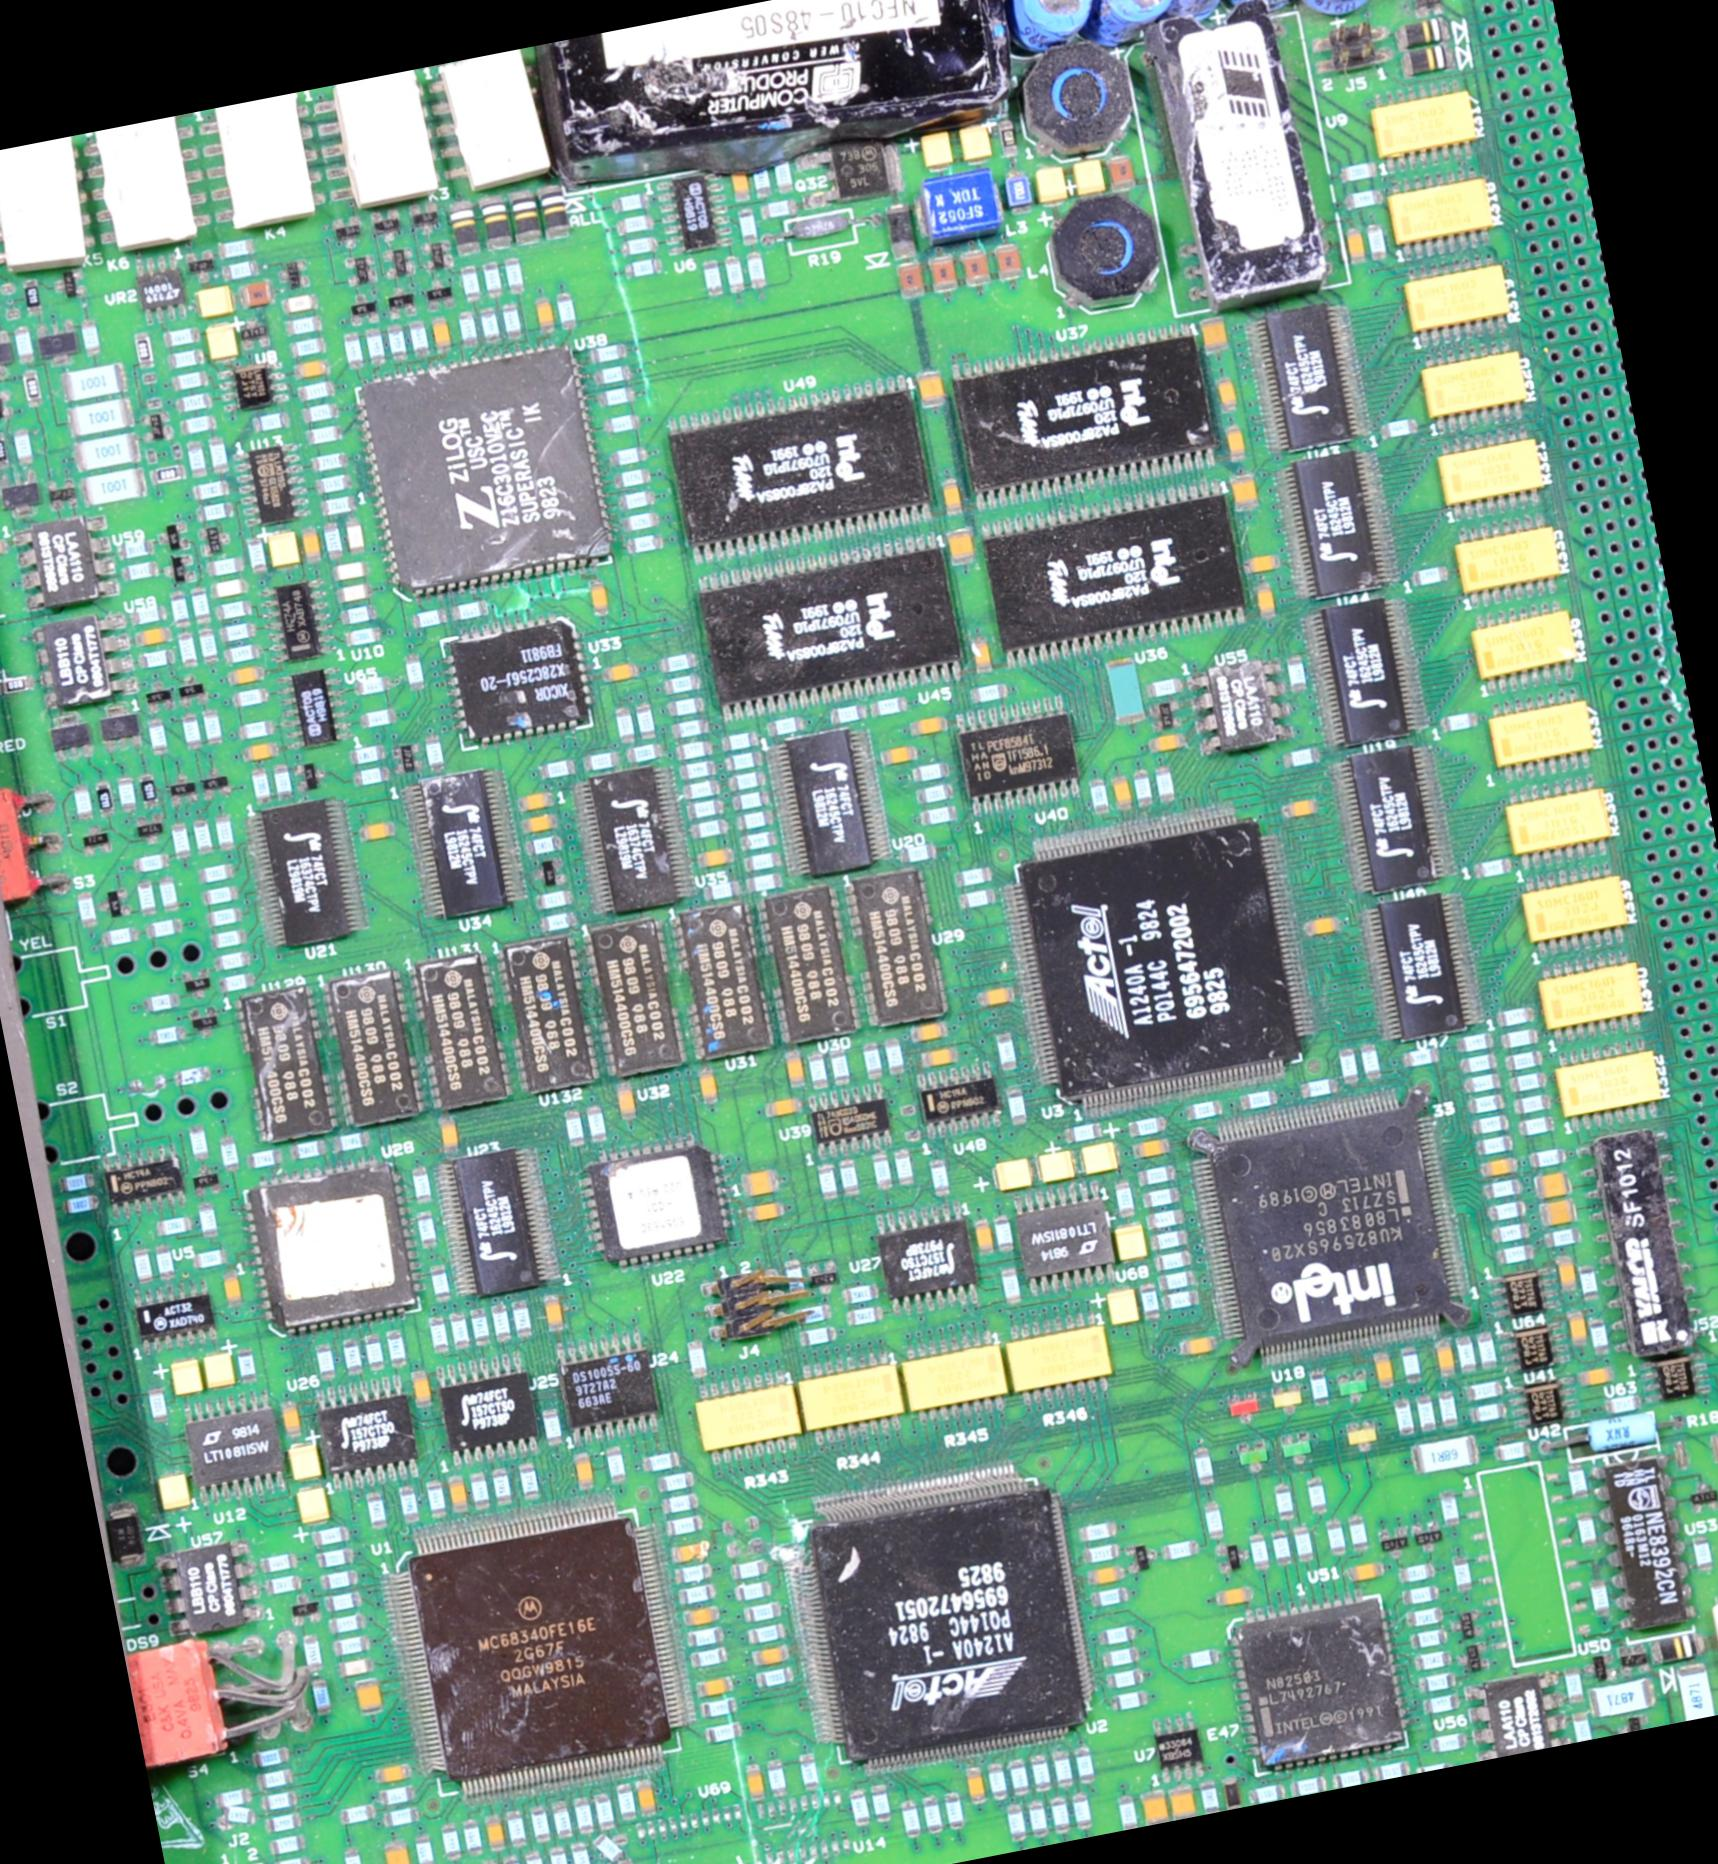Capacitor Jumper: (930, 257, 958, 291), (1127, 1133, 1163, 1158), (1142, 1789, 1166, 1825), (1232, 471, 1255, 508), (917, 370, 943, 403), (1216, 377, 1239, 412), (961, 252, 987, 283), (994, 245, 1015, 279), (1202, 318, 1223, 351), (1169, 1788, 1192, 1817), (1544, 1200, 1570, 1224), (1484, 1156, 1513, 1177), (1109, 161, 1132, 187), (279, 1403, 300, 1430), (1219, 1586, 1252, 1604), (445, 1478, 464, 1507), (744, 1768, 763, 1797), (953, 533, 973, 562), (1107, 776, 1127, 805), (1346, 226, 1362, 260), (533, 300, 550, 331), (1434, 1346, 1455, 1372), (971, 1767, 986, 1804), (541, 1299, 560, 1327), (245, 284, 268, 307), (1093, 1564, 1119, 1583), (224, 1271, 240, 1302), (578, 1453, 593, 1487), (753, 1646, 781, 1664), (901, 265, 919, 292), (913, 1025, 942, 1041), (749, 1172, 773, 1192), (231, 666, 255, 685), (1228, 430, 1245, 456), (979, 990, 1010, 1005), (593, 585, 607, 615), (1286, 800, 1314, 817), (619, 1085, 635, 1112), (701, 1070, 718, 1098), (1185, 1336, 1213, 1353), (1258, 589, 1275, 617), (885, 745, 913, 762), (770, 1096, 794, 1114), (1538, 1176, 1562, 1193), (296, 357, 320, 375), (487, 1815, 502, 1845), (784, 1059, 801, 1085), (1374, 1356, 1390, 1382), (364, 823, 390, 839), (974, 641, 992, 664), (1312, 919, 1336, 935), (637, 1786, 653, 1810), (302, 531, 318, 555), (607, 661, 632, 677), (414, 1374, 429, 1400), (1590, 1367, 1616, 1382), (1349, 1564, 1375, 1578), (731, 174, 745, 200), (930, 1046, 953, 1062), (679, 1541, 703, 1555), (434, 318, 447, 344), (1559, 1266, 1573, 1289), (364, 1682, 378, 1705), (701, 1679, 724, 1694), (701, 849, 724, 864), (386, 1845, 404, 1862), (443, 1119, 456, 1143), (1572, 1318, 1585, 1343), (692, 1607, 711, 1624), (947, 482, 960, 507), (1250, 557, 1275, 570), (250, 744, 271, 758), (919, 718, 940, 732), (978, 1228, 991, 1250), (380, 1767, 403, 1780), (755, 1203, 776, 1216), (143, 630, 161, 643), (531, 817, 547, 828), (1158, 739, 1176, 749), (529, 794, 544, 805)
IC: (1015, 822, 1302, 1104), (814, 1486, 1080, 1763), (403, 1508, 667, 1783), (1205, 1102, 1452, 1353), (360, 347, 606, 594), (1143, 8, 1328, 309), (695, 528, 961, 703), (950, 330, 1210, 495), (986, 490, 1245, 649), (669, 390, 922, 547), (1237, 1599, 1398, 1763), (252, 1172, 412, 1323), (1595, 1128, 1690, 1353), (445, 619, 594, 750), (843, 867, 943, 1025), (578, 765, 682, 911), (586, 917, 674, 1075), (674, 903, 763, 1055), (1294, 447, 1382, 601), (783, 732, 874, 874), (503, 938, 586, 1091), (242, 982, 326, 1132), (1372, 900, 1466, 1033), (593, 1151, 713, 1255), (263, 799, 349, 943), (758, 890, 844, 1033), (422, 956, 502, 1106), (1608, 1455, 1681, 1617), (1348, 752, 1435, 887), (335, 971, 414, 1119), (455, 1150, 534, 1292), (1263, 305, 1346, 442), (1325, 601, 1408, 737), (422, 773, 505, 908), (961, 716, 1070, 794), (877, 1216, 973, 1297), (1015, 1198, 1111, 1275), (187, 1408, 279, 1484), (442, 1374, 533, 1450), (317, 1396, 406, 1471), (171, 1539, 247, 1625), (560, 1353, 651, 1424), (1208, 664, 1280, 749), (34, 521, 97, 602), (1486, 1676, 1549, 1755), (49, 620, 109, 701), (273, 580, 323, 659), (812, 1099, 887, 1145), (292, 674, 338, 744), (677, 172, 719, 244), (250, 445, 289, 518), (924, 1085, 991, 1120), (231, 362, 274, 408), (1658, 1357, 1697, 1401), (1158, 1731, 1200, 1768), (1504, 1270, 1539, 1310), (1513, 1327, 1547, 1369), (145, 274, 179, 302)
Resistor Jumper: (692, 1379, 809, 1450), (1419, 347, 1525, 416), (804, 1362, 908, 1430), (1387, 180, 1492, 245), (903, 1341, 1005, 1408), (1452, 529, 1557, 593), (1440, 437, 1539, 502), (1489, 698, 1590, 762), (1007, 1327, 1109, 1388), (1557, 1055, 1660, 1115), (1371, 96, 1474, 154), (1528, 878, 1624, 942), (1413, 266, 1512, 326), (1505, 791, 1609, 848), (1473, 619, 1572, 674), (1543, 966, 1634, 1023), (1104, 662, 1145, 718), (788, 213, 843, 245), (1530, 1383, 1557, 1424), (219, 231, 253, 261), (255, 408, 289, 430), (1143, 1281, 1163, 1320), (995, 1031, 1017, 1067), (1129, 1111, 1164, 1132), (244, 537, 266, 570), (1151, 768, 1174, 799), (245, 768, 266, 800), (409, 1166, 429, 1200), (412, 1215, 435, 1244), (1049, 1794, 1068, 1828), (1010, 1088, 1030, 1120), (80, 318, 99, 351), (541, 1411, 562, 1440), (495, 305, 516, 334), (429, 1315, 447, 1349), (684, 1344, 703, 1375), (723, 258, 742, 289), (362, 330, 382, 360), (271, 763, 291, 794), (1564, 1671, 1582, 1703), (13, 326, 31, 359), (737, 208, 755, 240), (229, 687, 261, 705), (1286, 656, 1304, 688), (573, 1806, 593, 1835), (344, 604, 373, 623), (1132, 775, 1151, 804), (807, 1055, 825, 1086), (510, 1301, 528, 1331), (1030, 1758, 1047, 1789), (318, 524, 336, 555), (586, 750, 617, 768), (625, 744, 656, 762), (468, 1478, 489, 1504), (516, 1468, 536, 1495), (869, 1789, 888, 1817), (969, 685, 1002, 701), (1497, 1008, 1526, 1026), (1577, 1270, 1595, 1299), (749, 1604, 778, 1622), (1070, 1797, 1088, 1827), (171, 823, 188, 852), (831, 705, 861, 723), (596, 1838, 619, 1861), (740, 1578, 766, 1598), (528, 833, 554, 852), (1343, 1047, 1359, 1078), (471, 1309, 487, 1340), (450, 1315, 466, 1346), (1054, 1754, 1070, 1784), (904, 1804, 921, 1835), (388, 325, 404, 356), (425, 737, 442, 768), (1444, 714, 1474, 731), (882, 1042, 900, 1070), (1189, 1099, 1216, 1117), (1549, 1228, 1577, 1245), (615, 1793, 633, 1820), (503, 1814, 521, 1841), (942, 1794, 960, 1822), (169, 328, 196, 346), (357, 675, 385, 693), (1522, 1094, 1544, 1115), (961, 862, 986, 882), (294, 1138, 318, 1158), (831, 1049, 848, 1078), (133, 1252, 149, 1281), (401, 1489, 417, 1518), (1195, 1450, 1211, 1479), (271, 1817, 300, 1833), (463, 1817, 479, 1846), (991, 1767, 1007, 1796), (1030, 1801, 1046, 1830), (182, 630, 196, 662), (450, 601, 479, 617), (183, 714, 200, 744), (425, 1484, 443, 1510), (1439, 1395, 1457, 1421), (1400, 1560, 1426, 1578), (703, 1697, 729, 1715), (529, 1810, 547, 1836), (115, 779, 133, 805), (567, 1112, 581, 1143), (1414, 567, 1445, 581), (747, 875, 778, 890), (1361, 1046, 1377, 1073), (494, 1473, 510, 1500), (1476, 1338, 1492, 1366), (1609, 1395, 1637, 1411), (1205, 1508, 1221, 1536), (317, 453, 344, 469), (919, 784, 947, 800), (770, 196, 792, 216), (481, 268, 500, 291), (179, 1065, 203, 1083), (586, 1112, 604, 1137), (1166, 1541, 1190, 1559), (1106, 1627, 1130, 1645), (594, 343, 619, 360), (1005, 1270, 1020, 1299), (1161, 1252, 1190, 1266), (766, 1765, 781, 1794), (750, 253, 765, 283), (705, 263, 719, 292), (343, 523, 357, 552), (409, 612, 438, 627), (406, 659, 421, 688), (840, 1164, 856, 1190), (1306, 1481, 1322, 1507), (1296, 1528, 1312, 1554), (802, 1757, 818, 1783), (1418, 1653, 1444, 1669), (1007, 1807, 1023, 1833), (1573, 1715, 1590, 1741), (226, 261, 252, 278), (1367, 227, 1383, 253), (679, 723, 705, 739), (541, 762, 567, 778), (875, 697, 901, 713), (1155, 679, 1176, 698), (156, 1028, 179, 1046), (370, 1497, 388, 1520), (1291, 749, 1314, 766), (864, 1046, 878, 1073), (1505, 1029, 1533, 1044), (237, 1349, 252, 1377), (554, 1807, 568, 1835), (1008, 1762, 1023, 1789), (1257, 1784, 1284, 1799), (619, 713, 633, 740), (284, 299, 315, 312), (248, 1151, 273, 1167), (817, 1169, 833, 1193), (1304, 1080, 1328, 1096), (1145, 1166, 1169, 1182), (1083, 1523, 1107, 1539), (1252, 1539, 1268, 1564), (122, 537, 146, 554), (674, 697, 698, 713), (682, 744, 706, 760), (148, 921, 172, 937), (542, 913, 567, 929), (1478, 862, 1504, 877), (159, 1250, 172, 1279), (874, 1158, 888, 1184), (1117, 1184, 1130, 1213), (369, 1336, 382, 1366), (1531, 1151, 1557, 1166), (1504, 1249, 1530, 1263), (734, 1559, 760, 1573), (1278, 1491, 1293, 1517), (1327, 1525, 1341, 1551), (851, 1794, 865, 1820), (460, 315, 473, 344), (1382, 417, 1408, 432), (637, 706, 651, 732), (192, 823, 206, 849), (136, 854, 162, 869), (140, 883, 153, 913), (619, 447, 640, 464), (698, 804, 719, 822), (393, 1330, 404, 1362), (1155, 1213, 1177, 1229), (848, 1286, 870, 1302), (1497, 1205, 1520, 1221), (270, 1554, 292, 1570), (1312, 1374, 1328, 1396), (442, 1828, 458, 1851), (323, 479, 346, 495), (335, 559, 357, 575), (929, 807, 952, 823), (560, 297, 573, 325), (1351, 190, 1379, 203), (195, 591, 208, 619), (961, 890, 986, 904), (193, 1130, 208, 1154), (333, 1137, 357, 1151), (341, 1343, 356, 1367), (1473, 1380, 1497, 1395), (679, 1565, 703, 1580), (502, 260, 516, 284), (240, 724, 265, 739), (1484, 1137, 1505, 1153), (1504, 1443, 1525, 1460), (260, 1747, 281, 1763), (268, 1775, 289, 1791), (1190, 1648, 1211, 1664), (279, 1836, 300, 1853), (416, 1841, 432, 1862), (463, 274, 479, 296), (149, 648, 171, 664), (753, 851, 775, 867), (221, 1140, 234, 1166), (494, 1305, 507, 1331), (151, 721, 164, 747), (203, 713, 216, 739), (664, 656, 690, 669), (161, 883, 174, 909), (1463, 1034, 1486, 1049), (1409, 1049, 1432, 1064), (1171, 1292, 1194, 1307), (667, 1497, 690, 1512), (1476, 1406, 1499, 1421), (1091, 1544, 1114, 1559), (1349, 1523, 1364, 1546), (708, 1728, 731, 1742), (1112, 1671, 1135, 1685), (1077, 1755, 1091, 1778), (481, 310, 492, 339), (222, 951, 245, 966), (539, 895, 562, 909), (276, 1791, 294, 1809), (359, 747, 377, 765), (737, 753, 755, 771), (1067, 1127, 1091, 1140), (432, 1266, 445, 1291), (149, 1392, 162, 1416), (807, 1328, 827, 1344), (752, 1629, 776, 1642), (1380, 1763, 1405, 1776), (776, 166, 789, 190), (630, 237, 650, 253), (343, 336, 356, 360), (16, 435, 29, 460), (214, 909, 239, 922), (1088, 783, 1101, 807), (200, 1203, 211, 1231), (1249, 1091, 1270, 1106), (1517, 1075, 1538, 1089), (1479, 1119, 1500, 1133), (1150, 1187, 1171, 1202), (1525, 1119, 1546, 1133), (276, 1575, 297, 1590), (180, 370, 201, 385), (125, 563, 146, 578), (362, 770, 383, 784), (221, 932, 242, 947), (896, 1153, 908, 1179), (789, 1266, 802, 1289), (1164, 1275, 1187, 1288), (322, 1531, 344, 1544), (1460, 1343, 1473, 1366), (1398, 1403, 1409, 1429), (1699, 1543, 1712, 1565), (926, 1802, 937, 1828), (1439, 1737, 1461, 1750), (175, 351, 198, 364), (192, 447, 203, 472), (611, 417, 633, 430), (214, 559, 237, 572), (343, 586, 365, 599), (203, 632, 214, 658), (75, 791, 88, 813), (201, 865, 224, 878), (80, 896, 93, 919), (919, 763, 942, 776), (1595, 1322, 1604, 1351), (765, 1669, 784, 1684), (602, 388, 622, 403), (330, 498, 349, 513), (224, 974, 244, 989), (318, 1349, 330, 1374), (305, 1638, 317, 1663), (1444, 1494, 1455, 1518), (1582, 1515, 1593, 1539), (1455, 1562, 1466, 1586), (1426, 1676, 1450, 1687), (1343, 167, 1367, 179), (213, 443, 224, 468), (164, 1218, 185, 1231), (1468, 1057, 1489, 1070), (994, 1224, 1007, 1245), (1203, 1788, 1216, 1809), (1340, 1773, 1361, 1786), (755, 172, 768, 193), (313, 432, 335, 445), (222, 601, 244, 614), (352, 628, 373, 641), (692, 783, 713, 796), (637, 260, 653, 276), (326, 1551, 344, 1565), (697, 1629, 714, 1643), (1299, 1778, 1317, 1793), (606, 367, 624, 382), (632, 494, 650, 508), (1158, 1236, 1181, 1247), (1418, 1401, 1429, 1424), (222, 1791, 245, 1802), (598, 1802, 609, 1825), (1120, 1799, 1132, 1822), (620, 200, 643, 211), (200, 482, 222, 494), (1471, 1078, 1491, 1091), (609, 1453, 622, 1473), (667, 1478, 687, 1491), (1595, 1586, 1608, 1606), (1419, 1630, 1439, 1643), (1120, 1697, 1140, 1710), (412, 326, 422, 352), (218, 817, 227, 843), (778, 719, 797, 732), (727, 734, 747, 747), (1572, 1473, 1583, 1494), (697, 1653, 718, 1664), (1432, 1697, 1453, 1708), (175, 598, 187, 619), (687, 766, 708, 778), (906, 846, 927, 857), (330, 1573, 346, 1588), (188, 395, 205, 409), (651, 1455, 669, 1468), (1405, 1354, 1418, 1372), (344, 1640, 362, 1653), (219, 581, 237, 594), (196, 1253, 216, 1265), (934, 1164, 943, 1187), (1476, 1098, 1496, 1109), (1494, 1184, 1513, 1195), (1500, 1226, 1520, 1237), (674, 1518, 693, 1530), (344, 1659, 364, 1671), (1276, 1536, 1288, 1555), (1413, 1588, 1432, 1599), (188, 419, 208, 430), (234, 646, 257, 656), (367, 713, 386, 724), (809, 1305, 823, 1320), (575, 1848, 589, 1862), (744, 794, 758, 809), (749, 810, 763, 825), (339, 1616, 356, 1629), (1103, 1591, 1119, 1604), (299, 321, 315, 334), (627, 472, 643, 485), (229, 627, 245, 640), (687, 1586, 705, 1598), (1111, 1651, 1129, 1663), (309, 385, 326, 396), (114, 930, 132, 942), (390, 1788, 404, 1801), (349, 1806, 364, 1819), (393, 1810, 408, 1823), (208, 507, 227, 516), (153, 999, 167, 1012), (335, 1596, 351, 1607), (1419, 1611, 1435, 1622), (1422, 1762, 1445, 1770), (632, 516, 648, 528), (638, 536, 654, 547), (674, 679, 690, 690), (234, 1809, 247, 1822), (299, 344, 313, 356), (313, 408, 328, 419), (141, 609, 156, 620), (705, 825, 719, 836), (710, 883, 724, 895), (628, 218, 645, 227), (752, 836, 768, 846), (1518, 1054, 1531, 1065), (555, 1851, 568, 1862), (740, 775, 755, 784), (211, 890, 226, 900), (859, 1309, 872, 1318), (349, 1853, 360, 1862), (526, 1856, 542, 1862)
